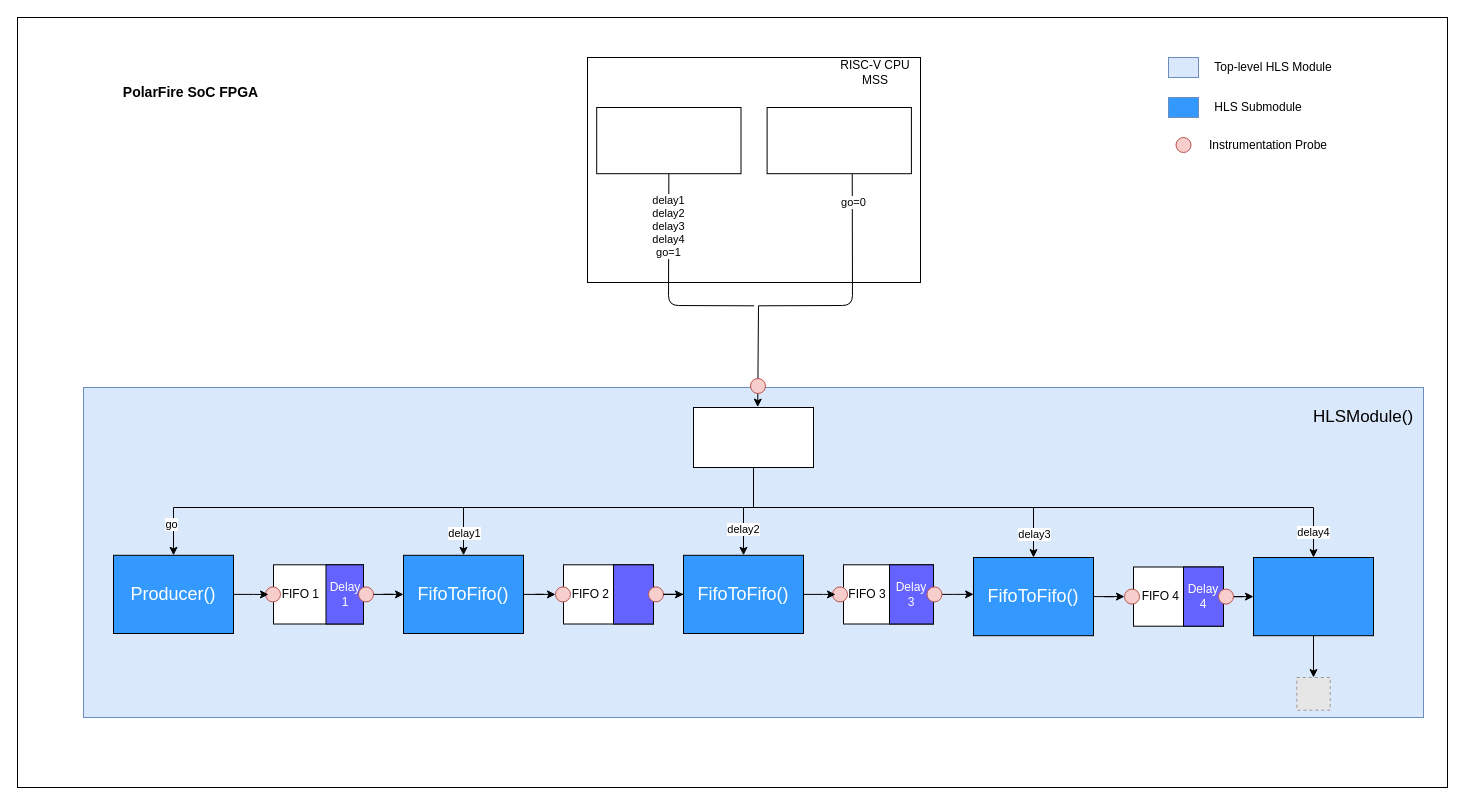
Some shapes in this 1465 by 805 pixel diagram are drawn without their labels. Grey dashed boxes stand in for pictures. The shapes that lost their labels are listed below. From the top down, each one's centre as x and y in pixels, then its label:
At point (668, 140): "Main ()".
At point (838, 140): "SIGINT Handler Reset()".
At point (753, 437): "AXI4 Target".
At point (633, 594): "Delay 2".
At point (1313, 596): "Consumer()".
